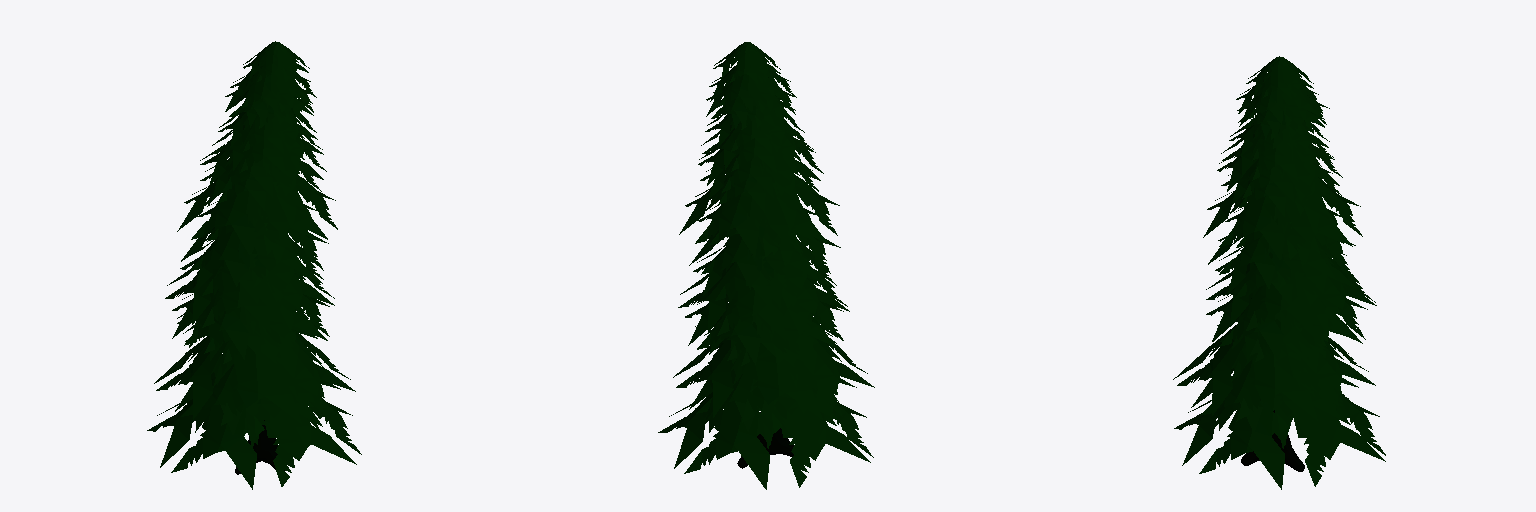
The model's file is tree_01.obj.
The picture shows the model from 3 angles: view 1: azimuth 30°, elevation 25°; view 2: azimuth 150°, elevation 25°; view 3: azimuth 270°, elevation 25°; orthographic projection.
Visible parts, largest first — view 1: Cube.003, Cube.004; view 2: Cube.003, Cube.004; view 3: Cube.003, Cube.004.
Boxes of the visible parts, <box> form: Cube.003: <box>147,41,361,489</box>; Cube.004: <box>235,420,284,474</box>; Cube.003: <box>658,42,874,489</box>; Cube.004: <box>737,412,793,468</box>; Cube.003: <box>1173,56,1385,489</box>; Cube.004: <box>1241,410,1304,471</box>.
Size of the model in its own units: 6.16 by 12.25 by 5.73.